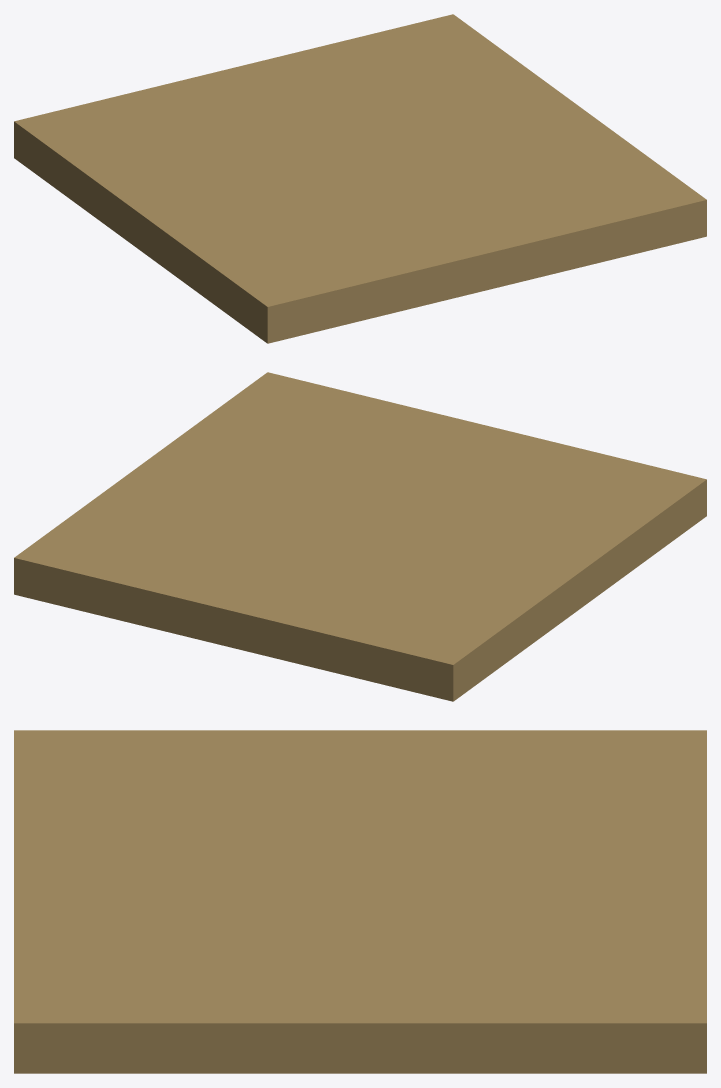
File: SM_Foundation.fbx
3 renders of one model, top to bottom at view 1: azimuth 30°, elevation 25°; view 2: azimuth 150°, elevation 25°; view 3: azimuth 270°, elevation 25°, orthographic. The views are drawn at different scales.
Parts seen in each view (by area): view 1: SM_Foundation; view 2: SM_Foundation; view 3: SM_Foundation.
Boxes of the visible parts, x1=… form: SM_Foundation: x1=14, y1=14, x2=706, y2=343; SM_Foundation: x1=14, y1=372, x2=706, y2=701; SM_Foundation: x1=14, y1=730, x2=706, y2=1073.
Bounding box in the file's own units: 2 × 0.16 × 2.
